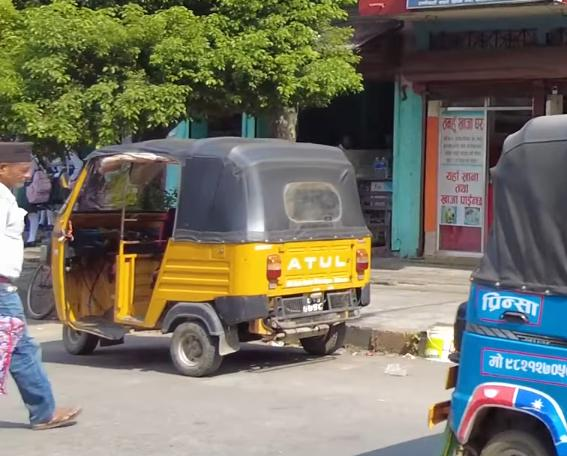auto_rickshaw: (42, 141, 371, 383)
